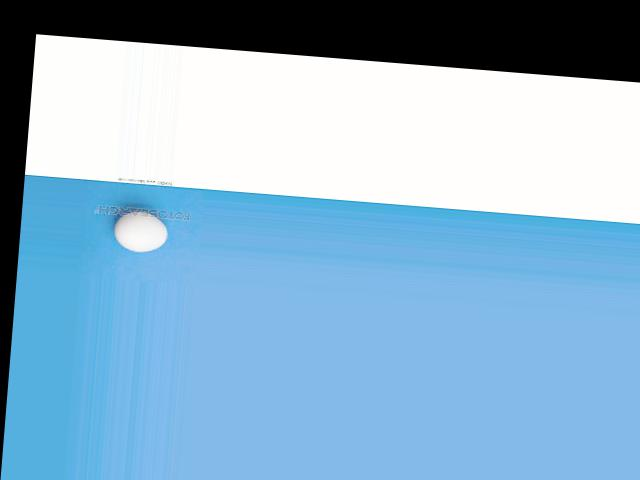egg: (112, 208, 168, 253)
